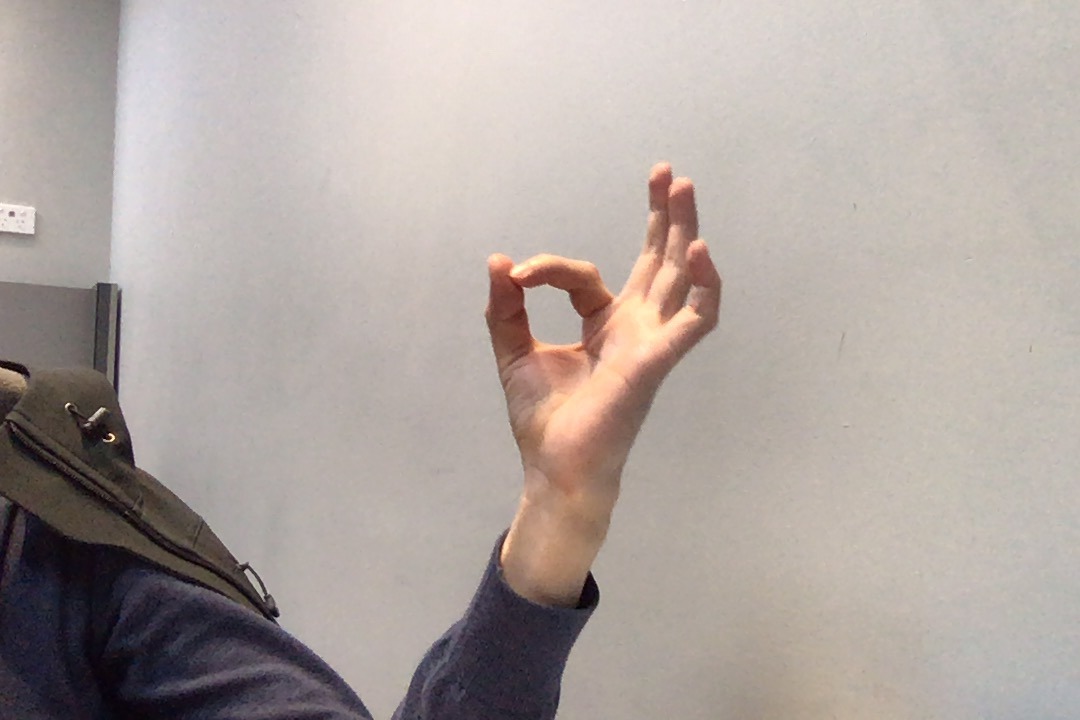oksign: (467, 154, 736, 487)
